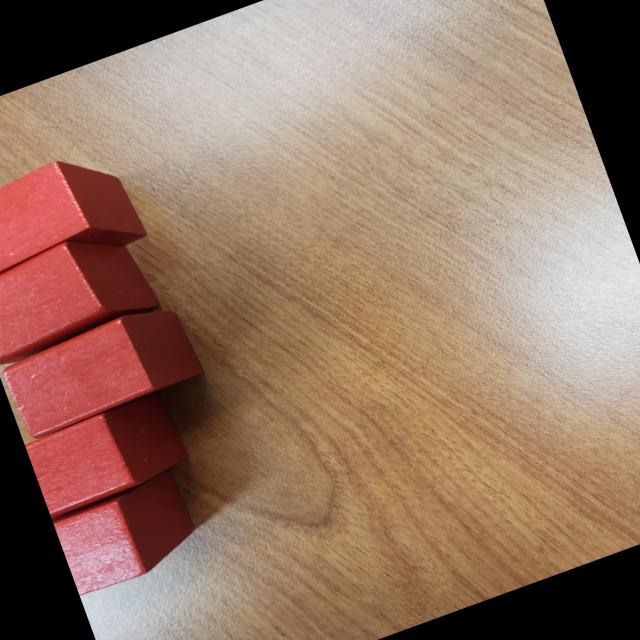red: (0, 295, 207, 441), (0, 217, 165, 369), (0, 139, 150, 302), (23, 389, 195, 518), (51, 474, 202, 597)
